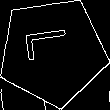L_E: (25, 33, 80, 71)
